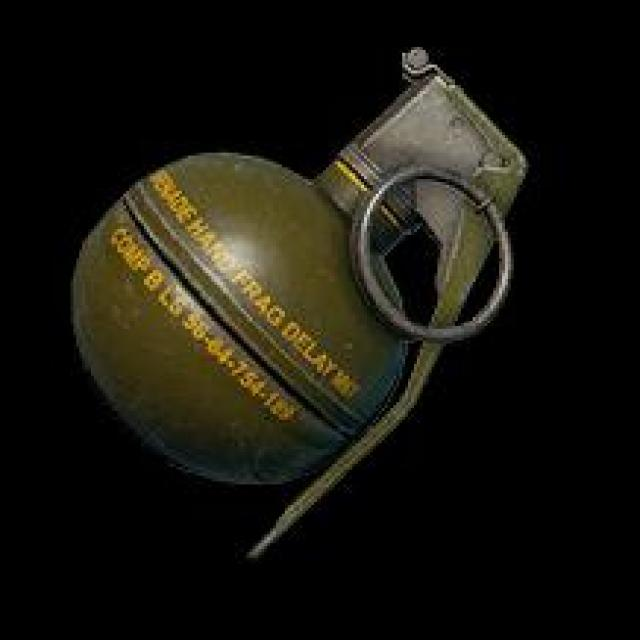grenade: (69, 51, 527, 564)
